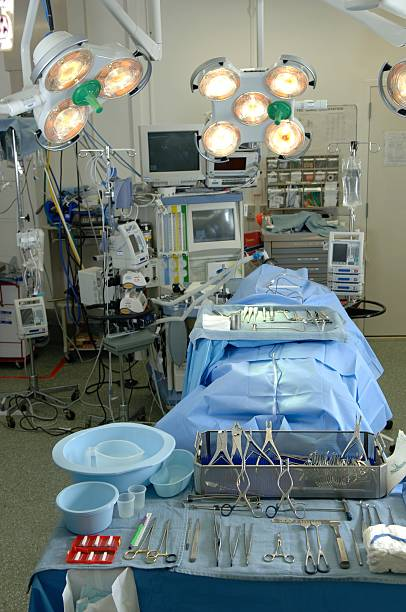bedside_monitor: (144, 126, 205, 186), (186, 200, 244, 254)
infusion_pump: (14, 296, 49, 338)
iv_pole: (78, 148, 134, 409), (325, 142, 381, 230)
medical_drawer: (262, 229, 327, 287)
surgical_instrument: (115, 415, 389, 563), (219, 307, 340, 336)
surgical_light: (24, 34, 149, 146), (185, 57, 315, 160), (373, 53, 406, 115)
syringe_pump: (331, 243, 358, 297)
